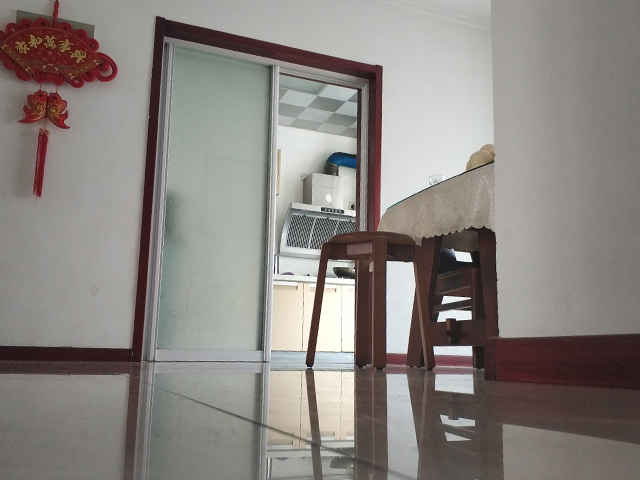cabinet: (268, 272, 358, 365)
stool: (304, 229, 437, 371)
table: (378, 160, 499, 383)
